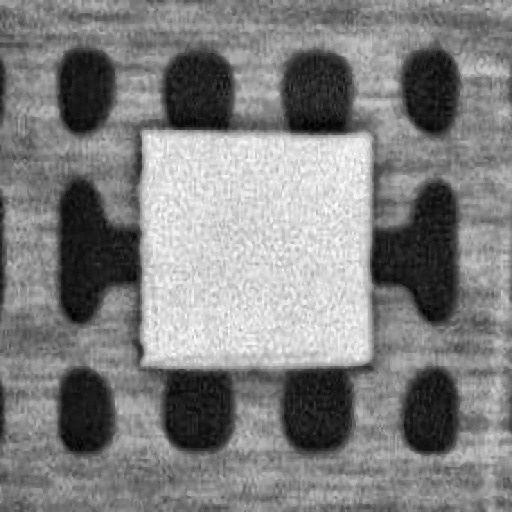DIE_CRACK: (156, 345, 327, 361)
